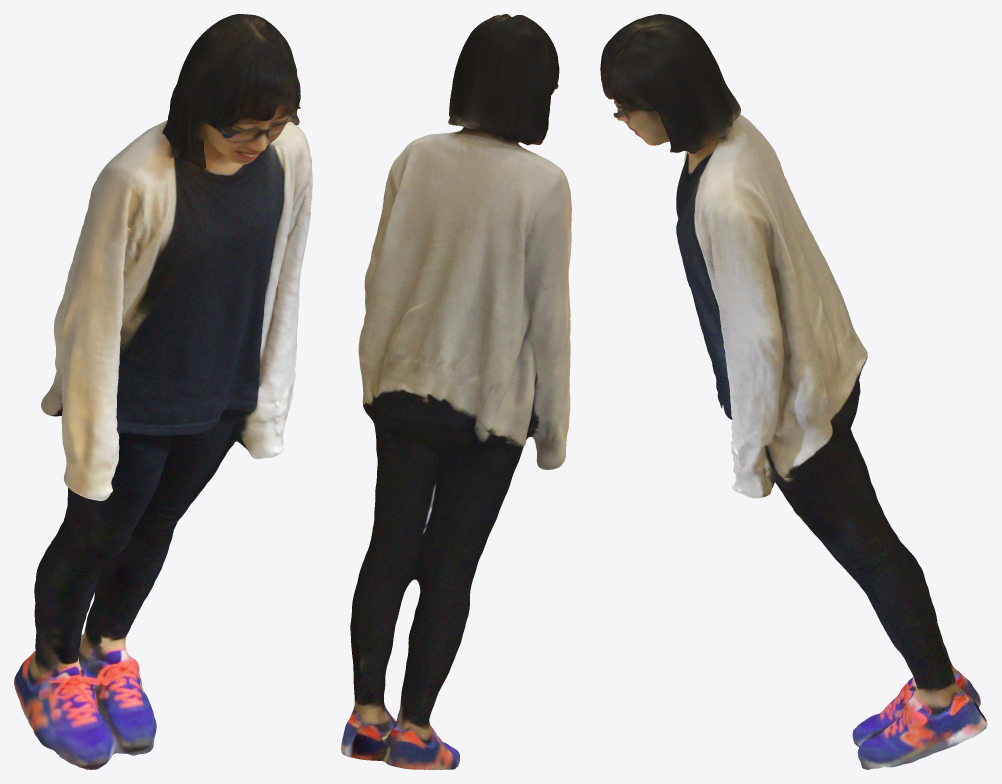
Rendered from person.glb.
The picture shows the model from 3 angles, left to right: view 1: azimuth 30°, elevation 25°; view 2: azimuth 150°, elevation 25°; view 3: azimuth 270°, elevation 25°; orthographic projection. The views are drawn at different scales.
Visible parts, largest first — view 1: Object_3, Object_4; view 2: Object_3, Object_4; view 3: Object_3, Object_4.
Boxes of the visible parts, box(x1,y1,x2,y2) form: Object_3: box(14, 14, 307, 769); Object_4: box(61, 14, 312, 512); Object_3: box(341, 14, 569, 769); Object_4: box(359, 14, 571, 469); Object_3: box(600, 14, 987, 769); Object_4: box(600, 14, 866, 446).
Size of the model in its own units: 0.4526 by 1.49 by 0.702.
Materials: 1 (1 with a texture image).
